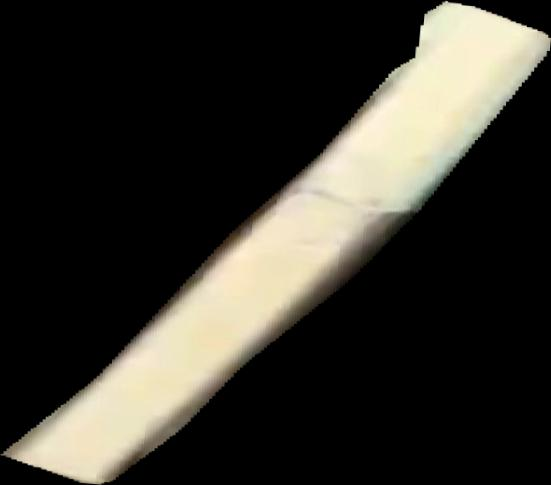backward: (1, 1, 551, 485)
